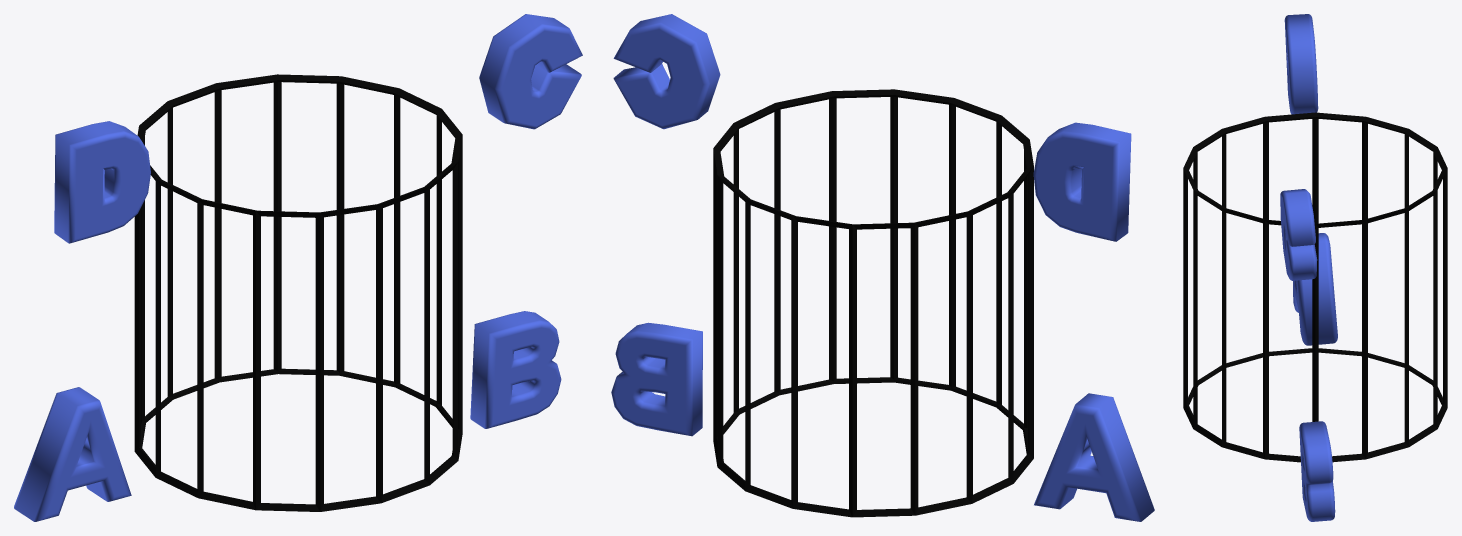
The model's file is tabung1.glb.
3 renders of one model, left to right at view 1: azimuth 30°, elevation 25°; view 2: azimuth 150°, elevation 25°; view 3: azimuth 270°, elevation 25°, orthographic. The views are drawn at different scales.
Visible parts, largest first — view 1: Cylinder, Text.003, Text.009, Text.002, Text.001; view 2: Cylinder, Text.003, Text.002, Text.001, Text.009; view 3: Cylinder, Text.001, Text.003, Text.002, Text.009.
Part boxes in pixels (x1=…): Cylinder: x1=134, y1=74, x2=462, y2=511; Text.003: x1=54, y1=121, x2=150, y2=243; Text.009: x1=14, y1=387, x2=131, y2=521; Text.002: x1=479, y1=14, x2=582, y2=129; Text.001: x1=470, y1=311, x2=561, y2=428; Cylinder: x1=713, y1=89, x2=1033, y2=517; Text.003: x1=1033, y1=122, x2=1131, y2=241; Text.002: x1=613, y1=14, x2=720, y2=129; Text.001: x1=611, y1=322, x2=702, y2=436; Text.009: x1=1034, y1=393, x2=1154, y2=521; Cylinder: x1=1183, y1=112, x2=1447, y2=462; Text.001: x1=1299, y1=421, x2=1335, y2=521; Text.003: x1=1284, y1=14, x2=1318, y2=114; Text.002: x1=1280, y1=189, x2=1317, y2=280; Text.009: x1=1293, y1=233, x2=1337, y2=345.
Bounding box in the file's own units: 3.9 × 2.75 × 2.04.
